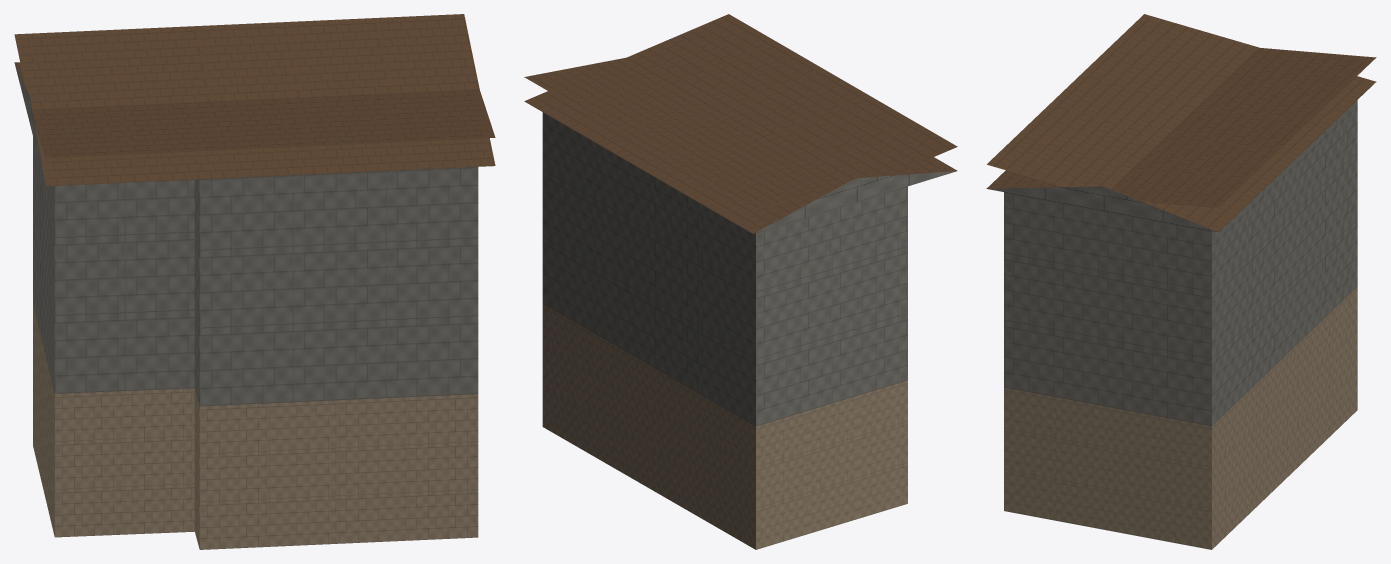
File: bld_c4_19_457.gltf
3 views of the same model, side by side, from view 1: azimuth 30°, elevation 25°; view 2: azimuth 150°, elevation 25°; view 3: azimuth 270°, elevation 25° (orthographic). The views are drawn at different scales.
Parts seen in each view (by area): view 1: bld_c4_19_457; view 2: bld_c4_19_457; view 3: bld_c4_19_457.
Boxes of the visible parts, x1,y1,x2,y2 form: bld_c4_19_457: (14,14,495,549); bld_c4_19_457: (524,14,957,549); bld_c4_19_457: (986,14,1376,549).
Bounding box in the file's own units: 17.16 × 14.4 × 14.58.
4 materials, 4 textured.
